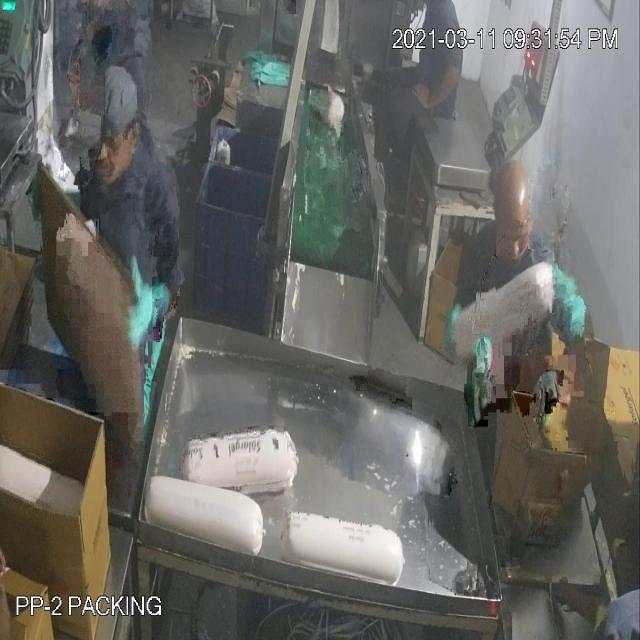No_Gloves: (408, 53, 470, 122)
